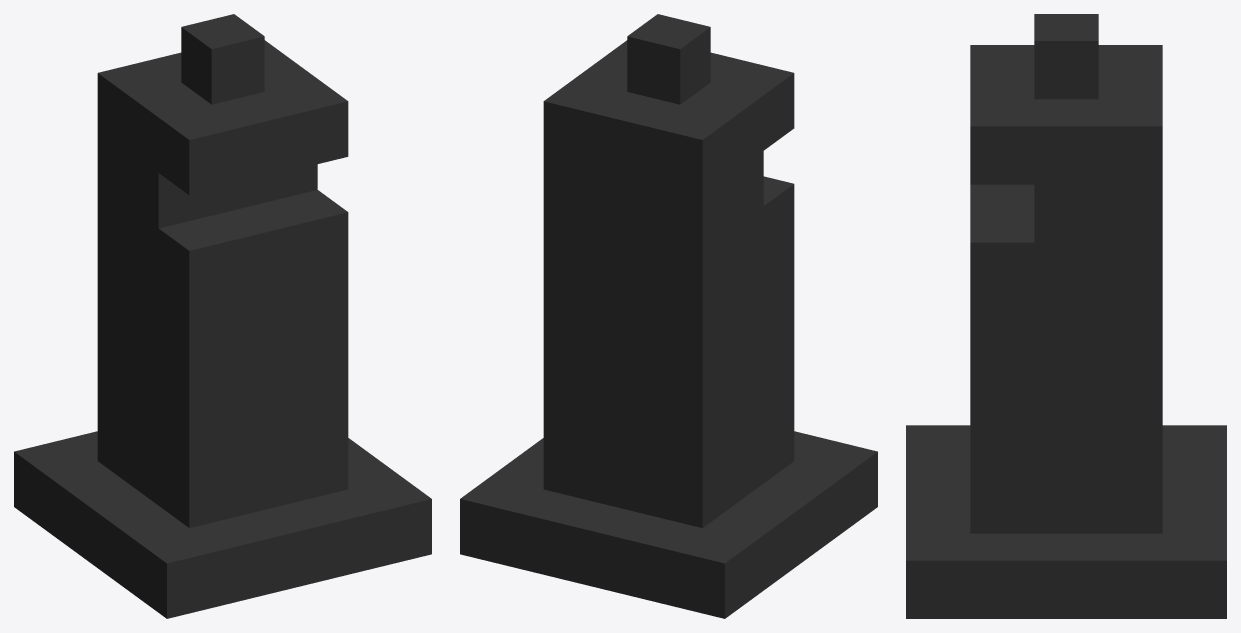
The model's file is bishop-w.glb.
3 views of the same model, side by side, from view 1: azimuth 30°, elevation 25°; view 2: azimuth 150°, elevation 25°; view 3: azimuth 270°, elevation 25° (orthographic). The views are drawn at different scales.
Parts seen in each view (by area): view 1: root; view 2: root; view 3: root.
Boxes of the visible parts, <box> form: root: <box>14,14,431,618</box>; root: <box>460,14,877,618</box>; root: <box>906,14,1226,618</box>.
Bounding box in the file's own units: 0.7143 × 1.29 × 0.7143.
1 material, 1 textured.
